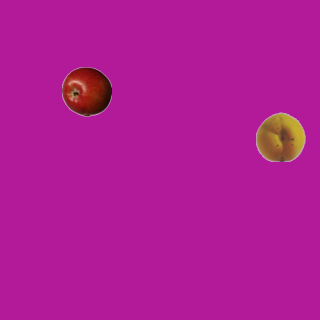Apple Braeburn: (61, 66, 111, 116)
Peach 2: (255, 111, 305, 161)
